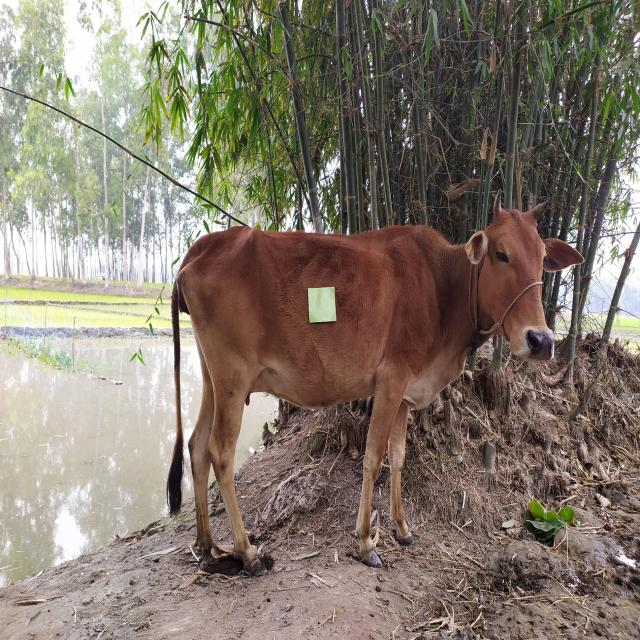badan_sapi: (197, 224, 420, 408)
sapi: (162, 177, 588, 580)
